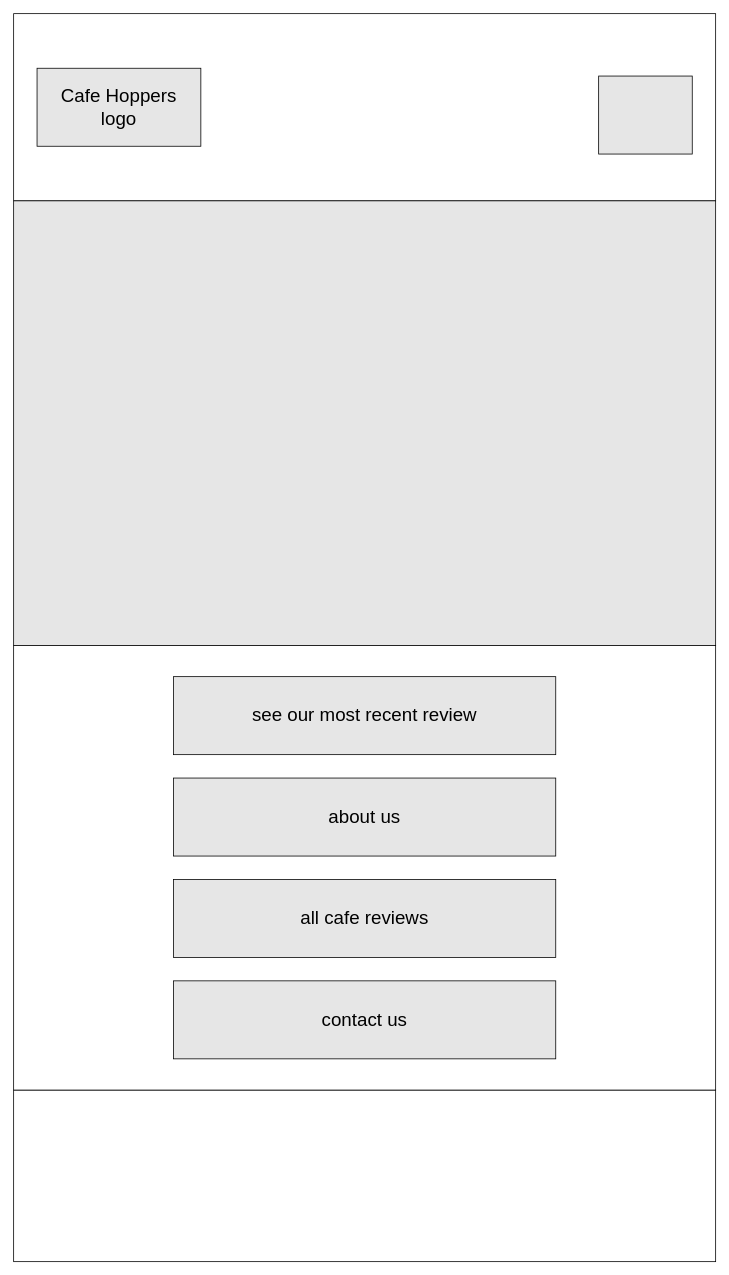
Image size: 729x1275. Some labels were removed from this diagram. The box of each missing label's shape, as (x1, y1, x2, y2) in pixels:
footer content: (13, 1089, 716, 1262)
menu icon: (598, 75, 692, 154)
photo of coffee: (13, 200, 716, 645)
